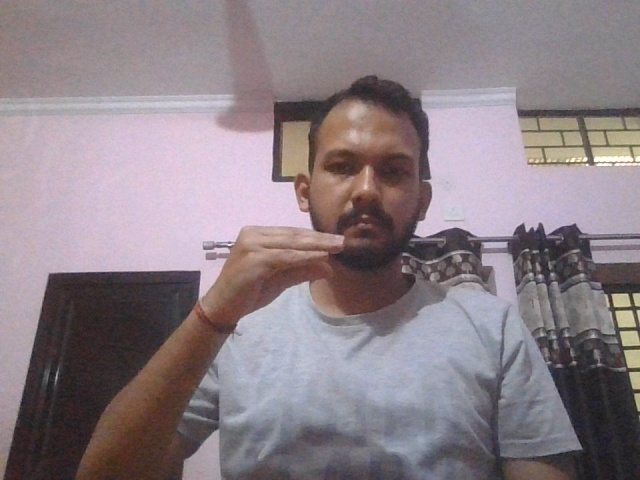no: (203, 226, 345, 318)
